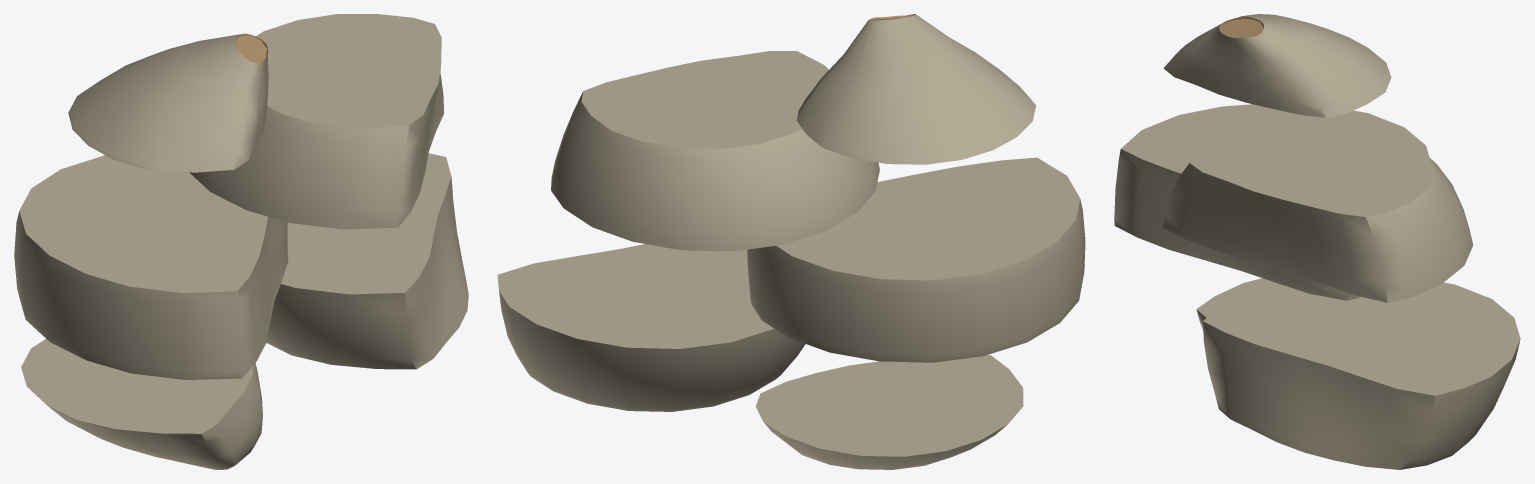
Rendered from CutGarlicFBX.fbx.
3 views of the same model, side by side, from view 1: azimuth 30°, elevation 25°; view 2: azimuth 150°, elevation 25°; view 3: azimuth 270°, elevation 25° (orthographic). The views are drawn at different scales.
Visible parts, largest first — view 1: pCube7, pCube8, pSphere10, pSphere8, pSphere7; view 2: pCube7, pCube8, pSphere10, pSphere8, pSphere7; view 3: pSphere10, pCube8, pSphere8, pCube7, pSphere7.
Part boxes in pixels (x1,y1,x2,y2): pCube7: [14, 155, 288, 379]; pCube8: [189, 14, 444, 229]; pSphere10: [266, 153, 468, 369]; pSphere8: [68, 33, 268, 172]; pSphere7: [21, 339, 262, 469]; pCube7: [747, 157, 1085, 362]; pCube8: [551, 51, 879, 251]; pSphere10: [497, 244, 805, 411]; pSphere8: [796, 14, 1035, 164]; pSphere7: [755, 355, 1023, 469]; pSphere10: [1203, 282, 1520, 469]; pCube8: [1162, 123, 1473, 302]; pSphere8: [1163, 14, 1391, 117]; pCube7: [1114, 104, 1429, 300]; pSphere7: [1196, 278, 1277, 329].
Bounding box in the file's own units: 2.64 × 2.22 × 2.09.
